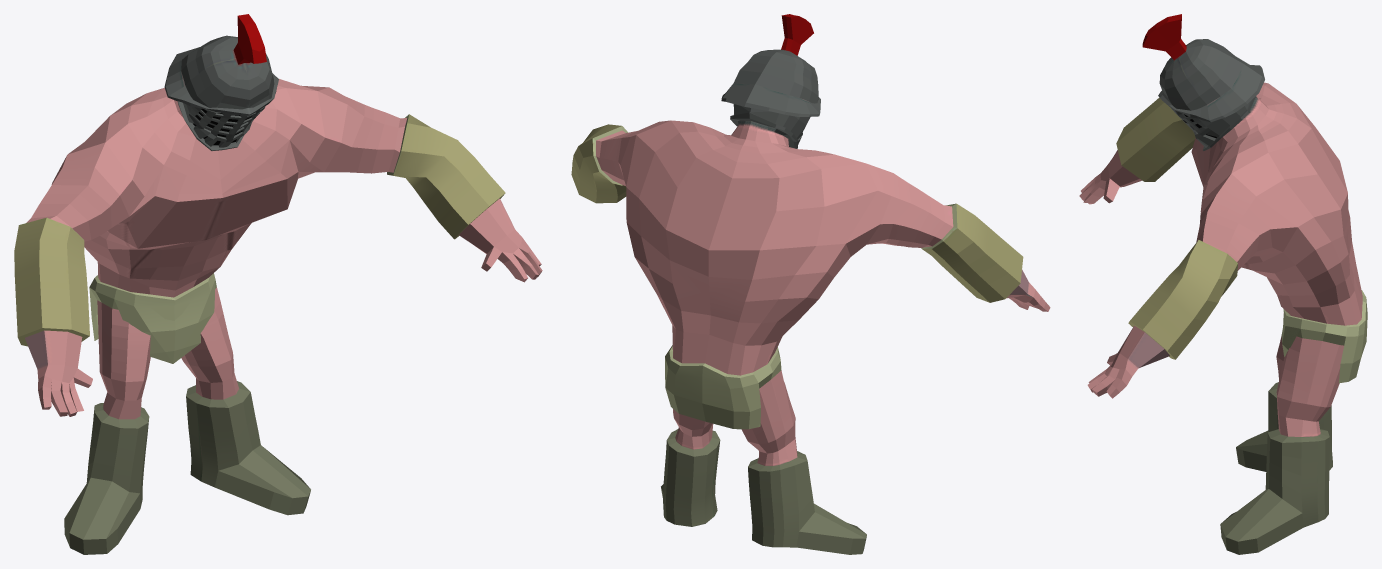
Rendered from GladiatorCelebracion_000516.obj.
3 views of the same model, side by side, from view 1: azimuth 30°, elevation 25°; view 2: azimuth 150°, elevation 25°; view 3: azimuth 270°, elevation 25° (orthographic). The views are drawn at different scales.
Parts seen in each view (by area): view 1: Gadiador_Gladiador_H; view 2: Gadiador_Gladiador_H; view 3: Gadiador_Gladiador_H.
Boxes of the visible parts, left/top/right/bottom form: Gadiador_Gladiador_H: left=14, top=14, right=542, bottom=554; Gadiador_Gladiador_H: left=571, top=14, right=1050, bottom=554; Gadiador_Gladiador_H: left=1079, top=14, right=1367, bottom=554.
Bounding box in the file's own units: 6.83 × 6.94 × 3.65.
Materials: 1 (1 with a texture image).
